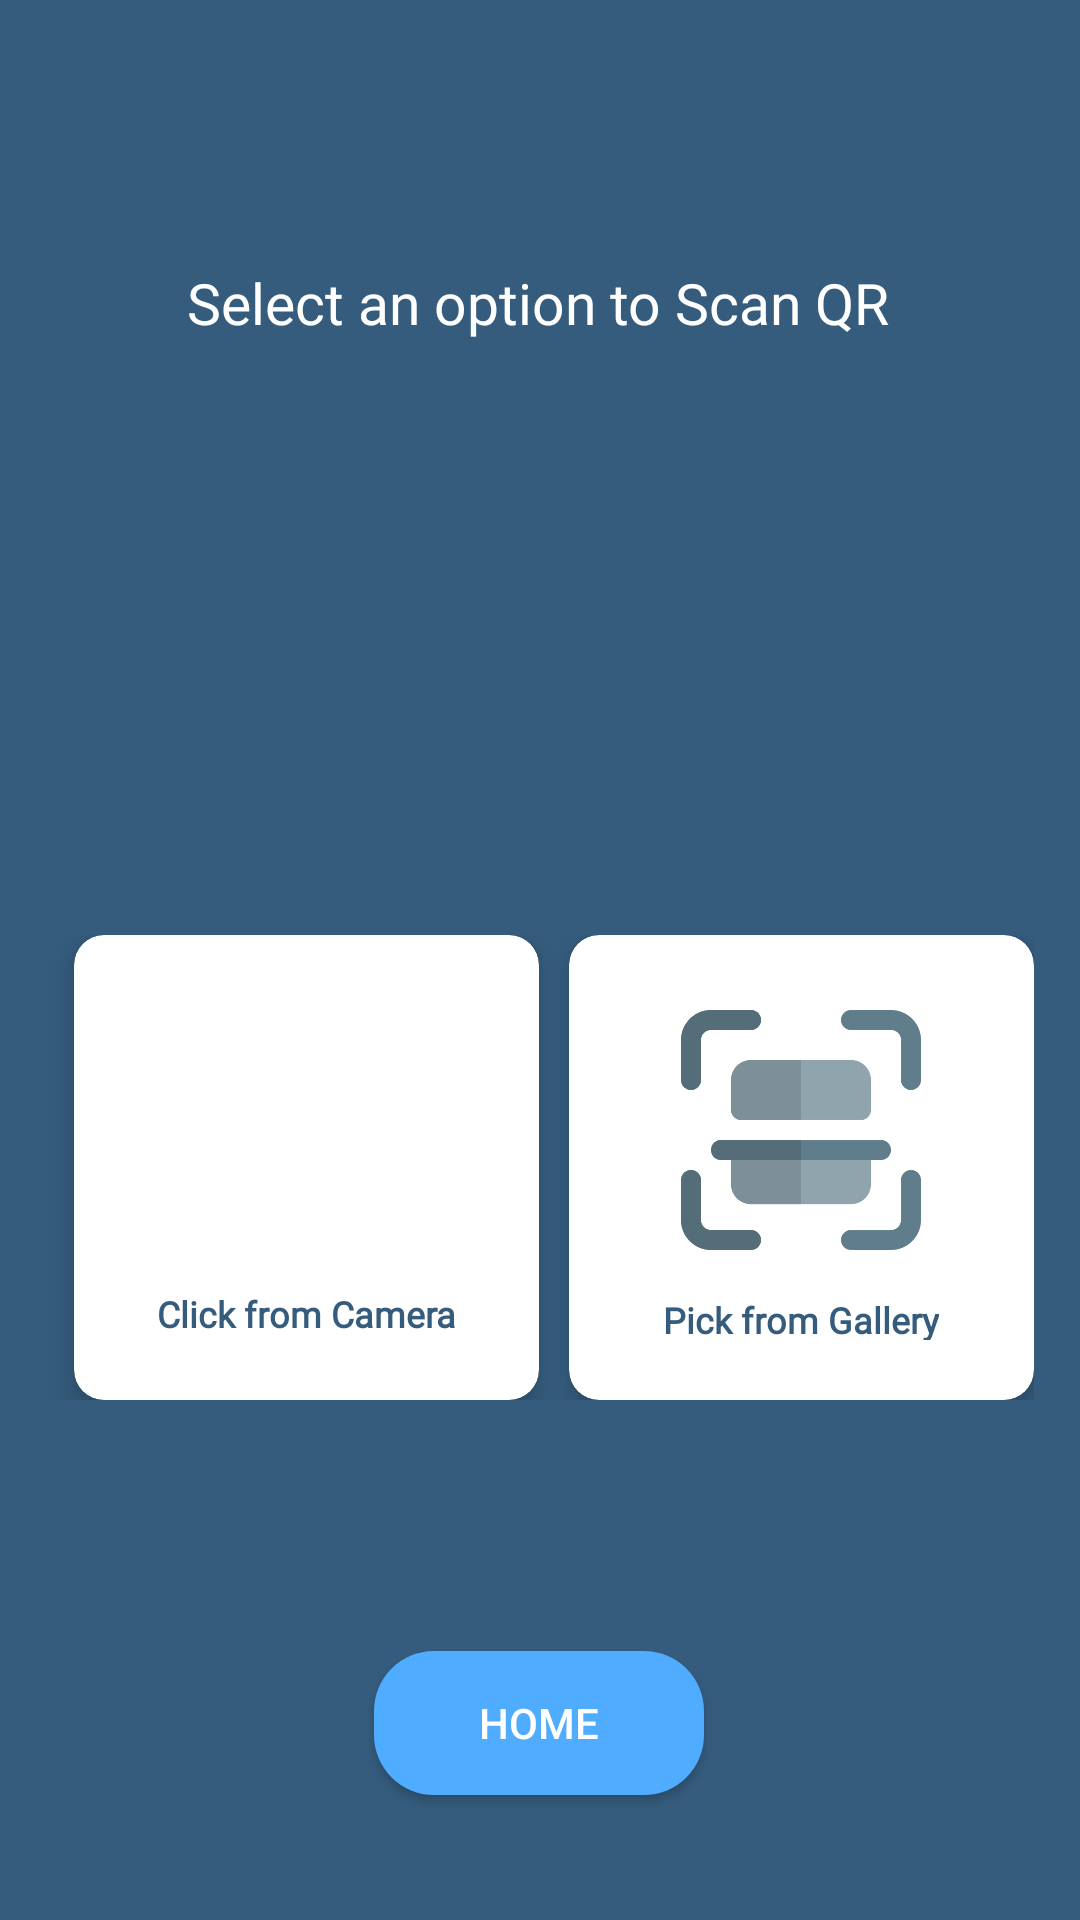

Named icons in this screenshot (1080×1920) and their bounding boxes, box(x1, y1, x2, y2):
scan: box(681, 1010, 921, 1250)
